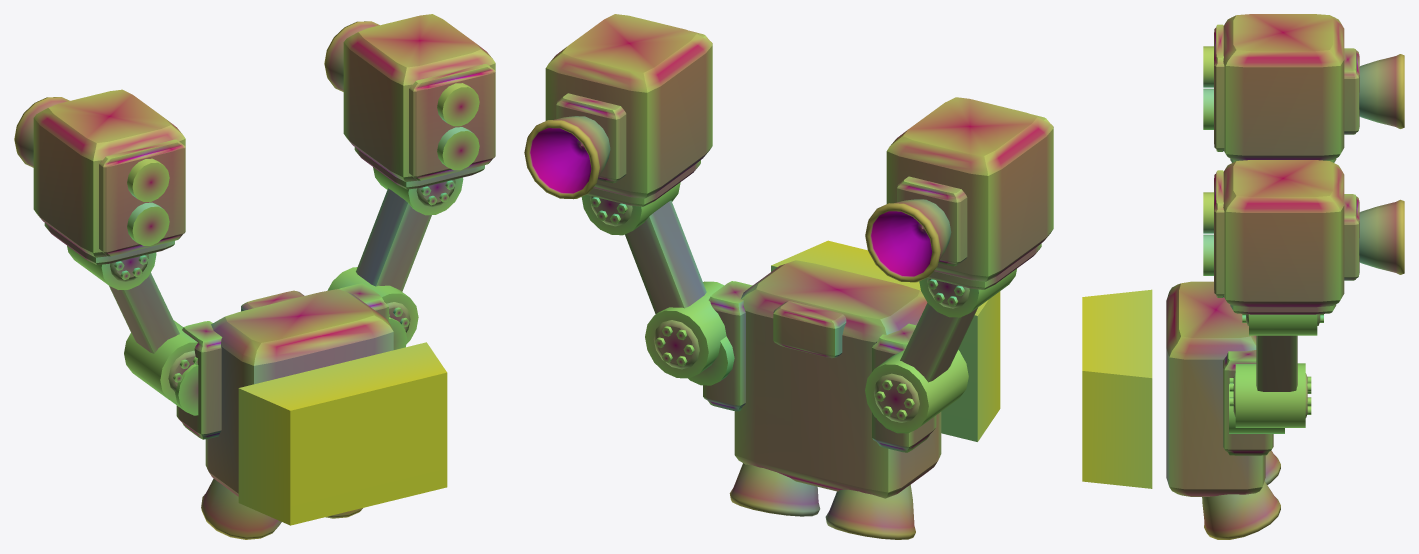
The model's file is llm_gen_dorsal_pack_040_c2aca2.glb.
3 views of the same model, side by side, from view 1: azimuth 30°, elevation 25°; view 2: azimuth 150°, elevation 25°; view 3: azimuth 270°, elevation 25° (orthographic). The views are drawn at different scales.
Visible parts, largest first — view 1: mounting_dovetail_plug, adapter_dorsal_spine_dark, salvo_pod_box_6_cobalt_anodized_l, salvo_pod_box_6_cobalt_anodized_r, salvo_face_frame_7_optic_cyan_r, salvo_face_frame_7_optic_cyan_l, salvo_mount_pylon_2_adapter_dark_r, adapter_dorsal_outrigger_dark_l, salvo_mount_pylon_2_adapter_dark_l, lower_boost_bell_12_vernier_bell_vernier_l, adapter_sub_pylon_drum_dark_0_adapter_dark_l, salvo_cell_top_8_psycho_emerald_r (+12 smaller); view 2: adapter_dorsal_spine_dark, salvo_pod_box_6_cobalt_anodized_r, salvo_pod_box_6_cobalt_anodized_l, mounting_dovetail_plug, exhaust_vernier_11_vernier_bell_vernier_l, exhaust_vernier_11_vernier_bell_vernier_r, salvo_mount_pylon_2_adapter_dark_r, lower_boost_bell_12_vernier_bell_vernier_l, adapter_sub_pylon_drum_dark_0_adapter_dark_l, lower_boost_bell_12_vernier_bell_vernier_r, adapter_sub_pylon_drum_dark_0_adapter_dark_r, adapter_dorsal_outrigger_dark_r (+12 smaller); view 3: salvo_pod_box_6_cobalt_anodized_r, salvo_pod_box_6_cobalt_anodized_l, adapter_dorsal_spine_dark, mounting_dovetail_plug, adapter_sub_pylon_drum_dark_0_adapter_dark_r, lower_boost_bell_12_vernier_bell_vernier_r, exhaust_vernier_11_vernier_bell_vernier_r, exhaust_vernier_11_vernier_bell_vernier_l, salvo_mount_pylon_2_adapter_dark_r, adapter_dorsal_outrigger_dark_r, adapter_sub_upper_drum_dark_3_adapter_dark_r, adapter_sub_pod_exhaust_dark_10_adapter_dark_r (+10 smaller).
Boxes of the visible parts, x1,y1,x2,y2 form: mounting_dovetail_plug: (238,342,447,525); adapter_dorsal_spine_dark: (205,289,393,496); salvo_pod_box_6_cobalt_anodized_l: (33,89,185,257); salvo_pod_box_6_cobalt_anodized_r: (343,14,495,181); salvo_face_frame_7_optic_cyan_r: (409,64,495,180); salvo_face_frame_7_optic_cyan_l: (99,139,185,256); salvo_mount_pylon_2_adapter_dark_r: (356,188,431,291); adapter_dorsal_outrigger_dark_l: (176,321,222,439); salvo_mount_pylon_2_adapter_dark_l: (109,272,179,353); lower_boost_bell_12_vernier_bell_vernier_l: (201,478,281,539); adapter_sub_pylon_drum_dark_0_adapter_dark_l: (124,320,197,403); salvo_cell_top_8_psycho_emerald_r: (437,83,479,126); adapter_dorsal_spine_dark: (734,260,941,498); salvo_pod_box_6_cobalt_anodized_r: (545,14,712,198); salvo_pod_box_6_cobalt_anodized_l: (886,97,1053,281); mounting_dovetail_plug: (771,240,1000,441); exhaust_vernier_11_vernier_bell_vernier_l: (865,199,951,282); exhaust_vernier_11_vernier_bell_vernier_r: (524,116,610,199); salvo_mount_pylon_2_adapter_dark_r: (625,200,706,313); lower_boost_bell_12_vernier_bell_vernier_l: (825,485,915,539); adapter_sub_pylon_drum_dark_0_adapter_dark_l: (865,349,968,431); lower_boost_bell_12_vernier_bell_vernier_r: (729,463,820,516); adapter_sub_pylon_drum_dark_0_adapter_dark_r: (645,281,726,378); adapter_dorsal_outrigger_dark_r: (703,281,752,411); salvo_pod_box_6_cobalt_anodized_r: (1223,160,1344,307); salvo_pod_box_6_cobalt_anodized_l: (1223,14,1344,160); adapter_dorsal_spine_dark: (1166,281,1265,496); mounting_dovetail_plug: (1082,289,1152,488); adapter_sub_pylon_drum_dark_0_adapter_dark_r: (1235,363,1305,427); lower_boost_bell_12_vernier_bell_vernier_r: (1202,481,1280,539); exhaust_vernier_11_vernier_bell_vernier_r: (1359,199,1404,274); exhaust_vernier_11_vernier_bell_vernier_l: (1359,54,1404,128); salvo_mount_pylon_2_adapter_dark_r: (1256,335,1297,391); adapter_dorsal_outrigger_dark_r: (1223,350,1273,455); adapter_sub_upper_drum_dark_3_adapter_dark_r: (1249,314,1317,335); adapter_sub_pod_exhaust_dark_10_adapter_dark_r: (1344,194,1359,280).
Bounding box in the file's own units: 52.12 × 51.27 × 36.91.
